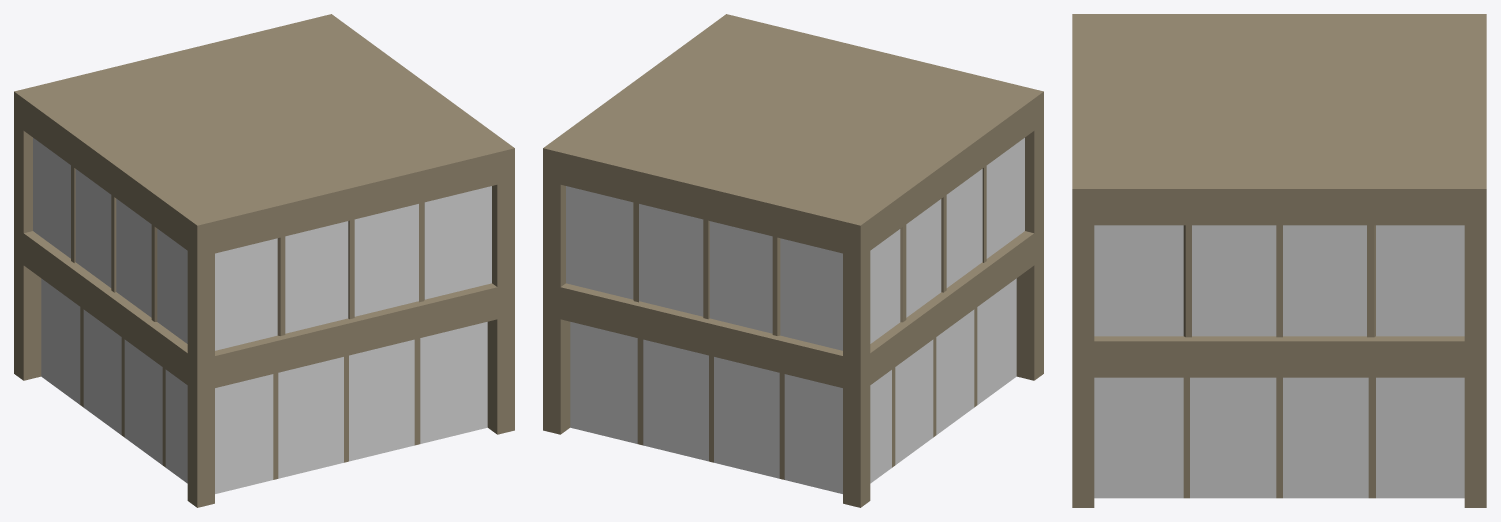
File: skyscraper bottom section_copper.fbx
3 views of the same model, side by side, from view 1: azimuth 30°, elevation 25°; view 2: azimuth 150°, elevation 25°; view 3: azimuth 270°, elevation 25° (orthographic). The views are drawn at different scales.
Visible parts, largest first — view 1: mid section skyscraper; view 2: mid section skyscraper; view 3: mid section skyscraper.
Part boxes in pixels (x1,y1,x2,y2): mid section skyscraper: (14, 14, 514, 507); mid section skyscraper: (543, 14, 1043, 507); mid section skyscraper: (1072, 14, 1486, 507).
Bounding box in the file's own units: 1295 × 1100 × 1295.
